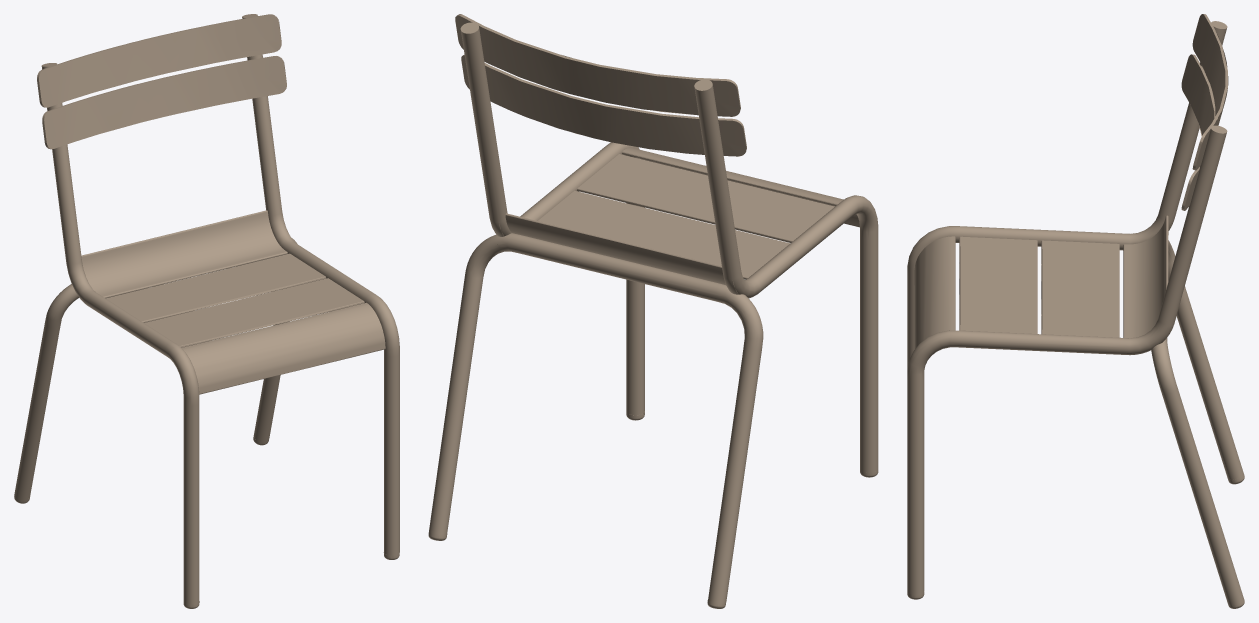
Rendered from luxembourg-bambini-stuhl.glb.
3 renders of one model, left to right at view 1: azimuth 30°, elevation 25°; view 2: azimuth 150°, elevation 25°; view 3: azimuth 270°, elevation 25°, orthographic. The views are drawn at different scales.
Visible parts, largest first — view 1: Gestell; view 2: Gestell; view 3: Gestell.
Part boxes in pixels (box(x1,y1,x2,y2)): Gestell: box(14, 14, 399, 608); Gestell: box(428, 14, 878, 608); Gestell: box(907, 14, 1244, 608).
Size of the model in its own units: 0.3436 by 0.5724 by 0.3716.
